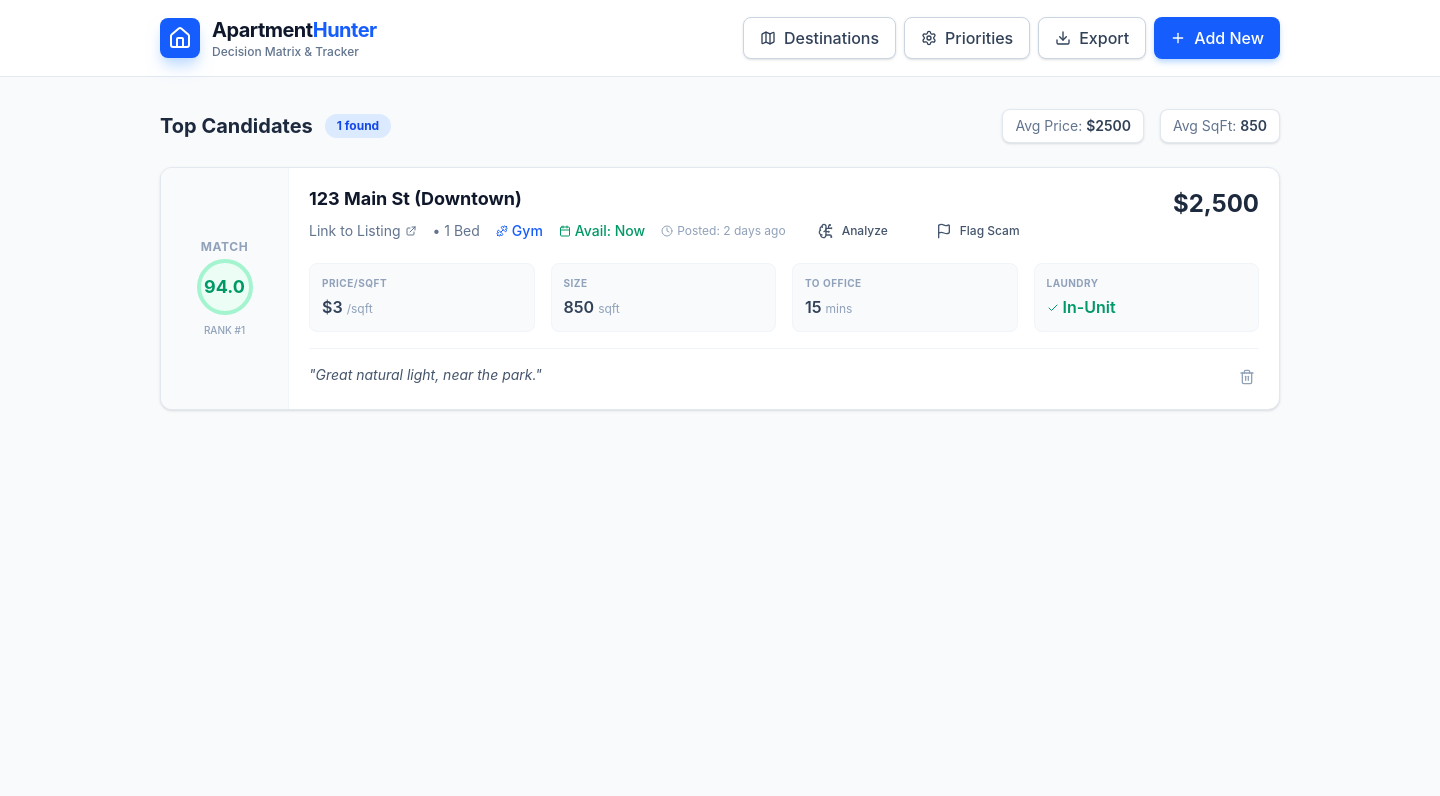
Scenario: App Integration › updates form when smart import succeeds
Note: Switch to add tab
Click the button "Add New" at (1217, 38), box [1154,17,1280,59]
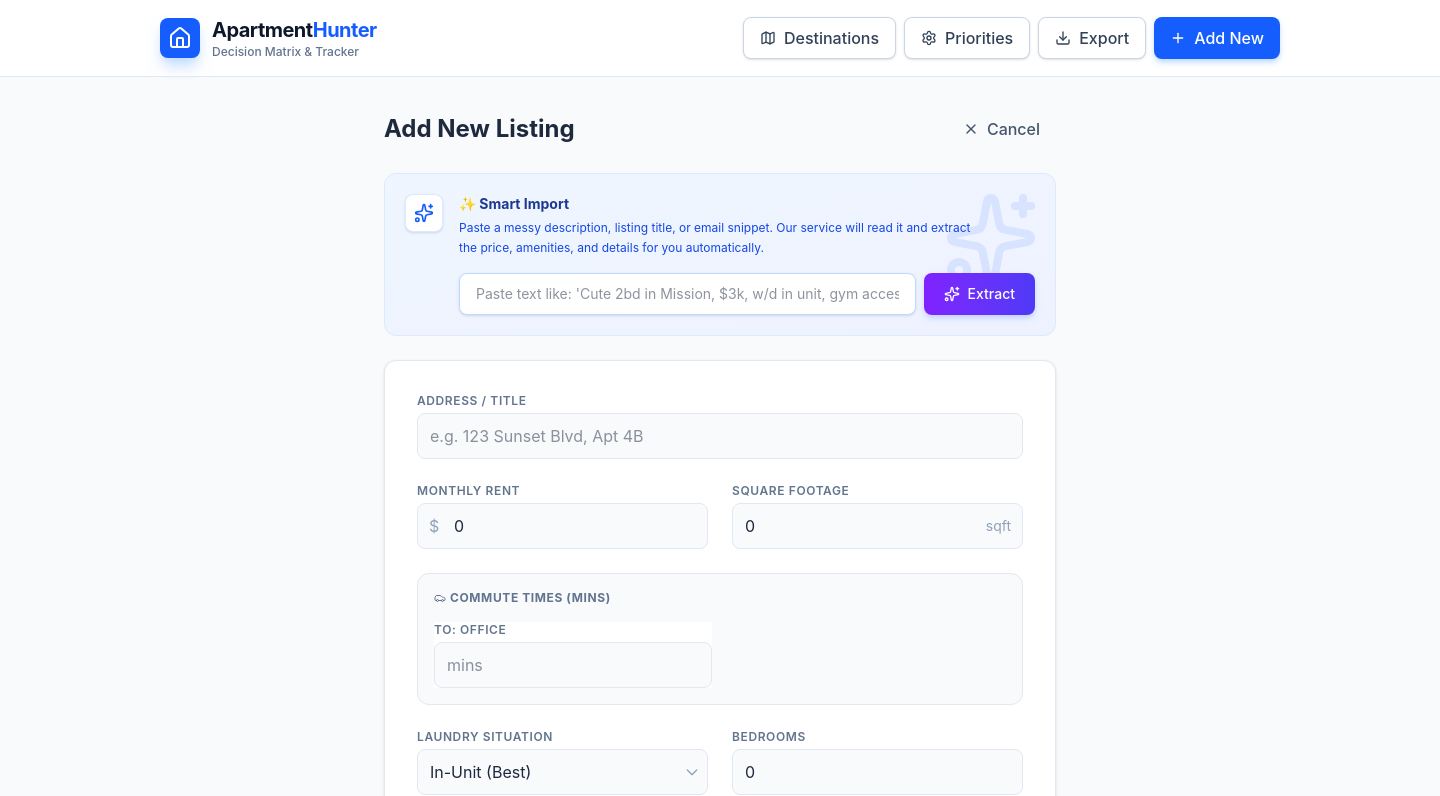
Replace the text in the field with placeholder "Paste text like" with "some listing text" at (687, 294), box [459,273,916,315]
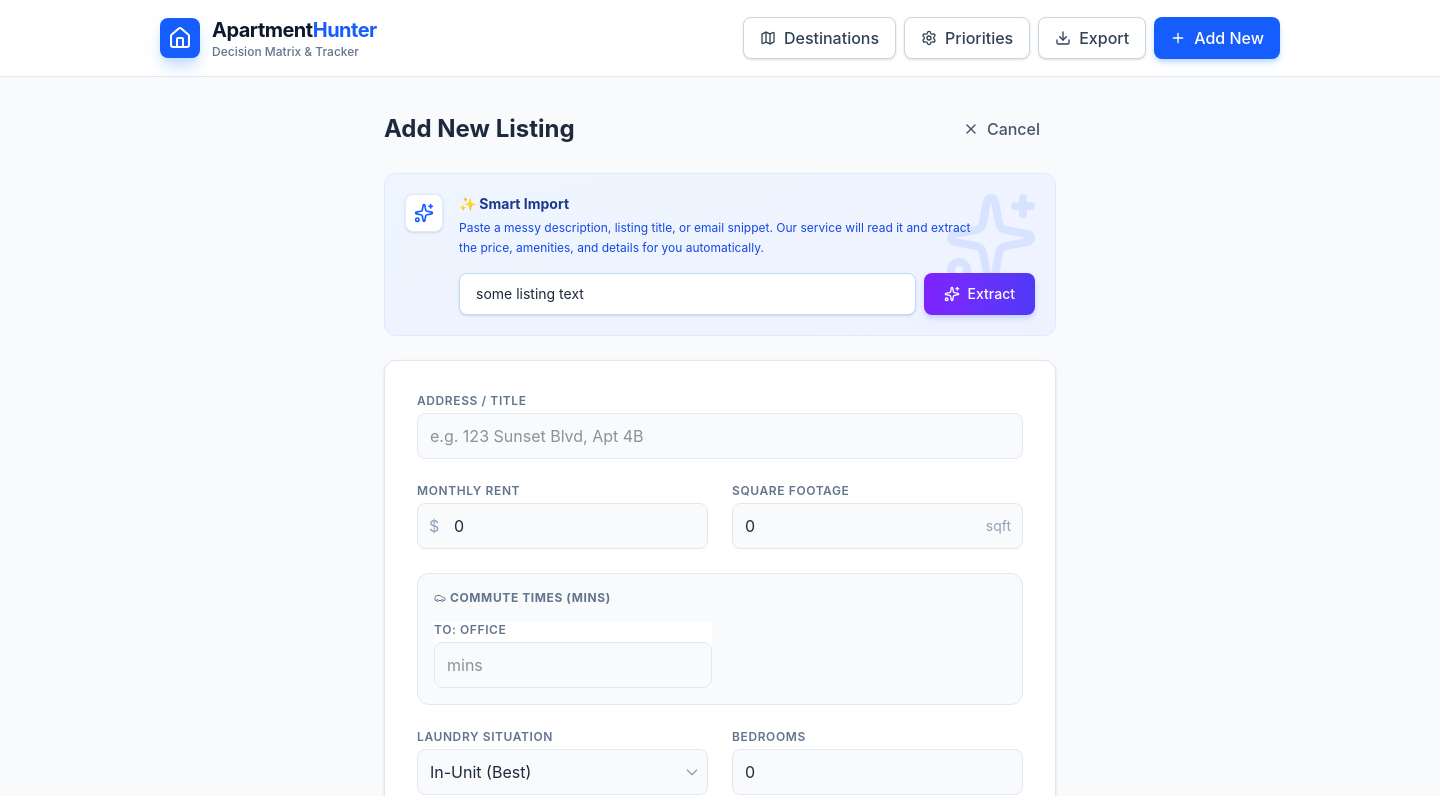
Click the button "Extract" at (979, 294), box [924,273,1035,315]
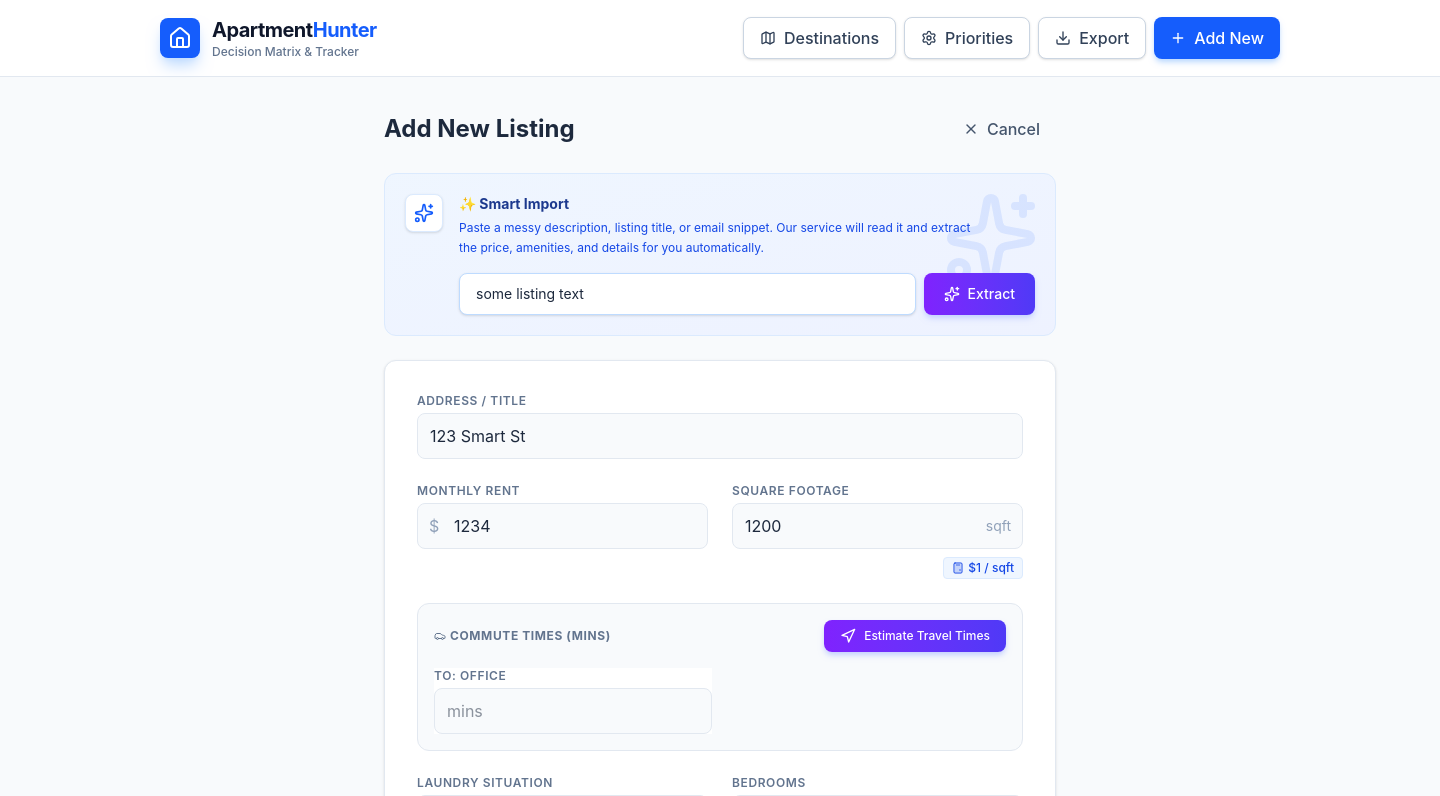
Expected: the field showing "123 Smart St" below "Address / Title" is shown, [417,413,1023,459]
Expected: the number field showing "1234" below "Monthly Rent" is shown, [417,503,708,549]
